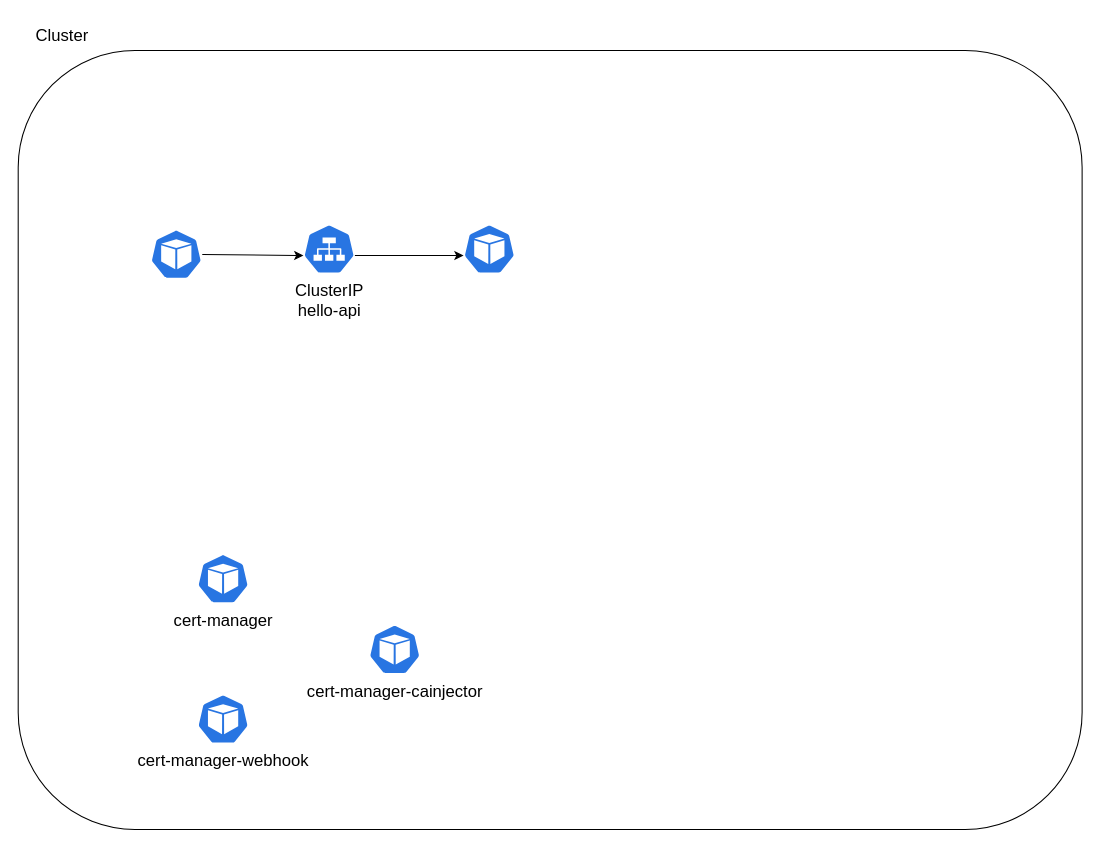
Some shapes in this 1100 by 848 pixel diagram are drawn without their labels. The shapes that lost their labels are listed below. From the top down, each one's centre as x and y in pixels, then its label:
At point (175, 253): "Pod my-client".
At point (488, 248): "Pod hello-api".
